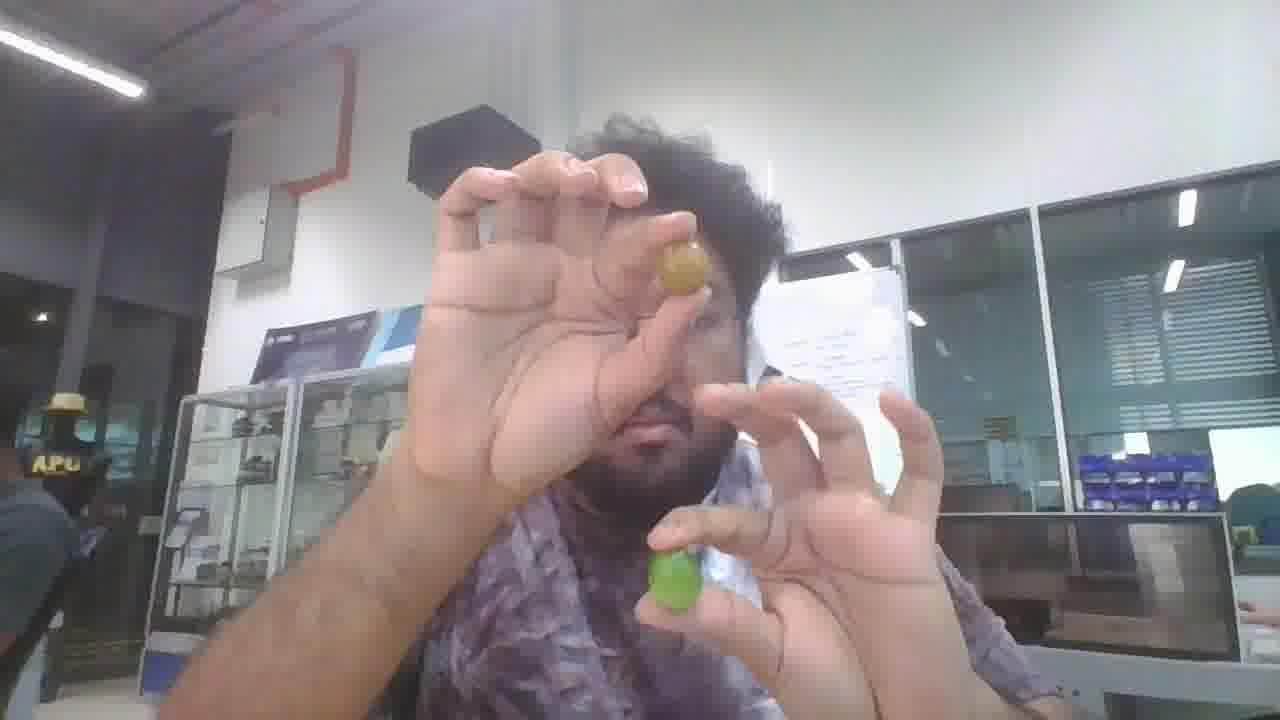green_cherry_tomato: (648, 550, 702, 612)
yellow_cherry_tomato: (658, 241, 709, 294)
